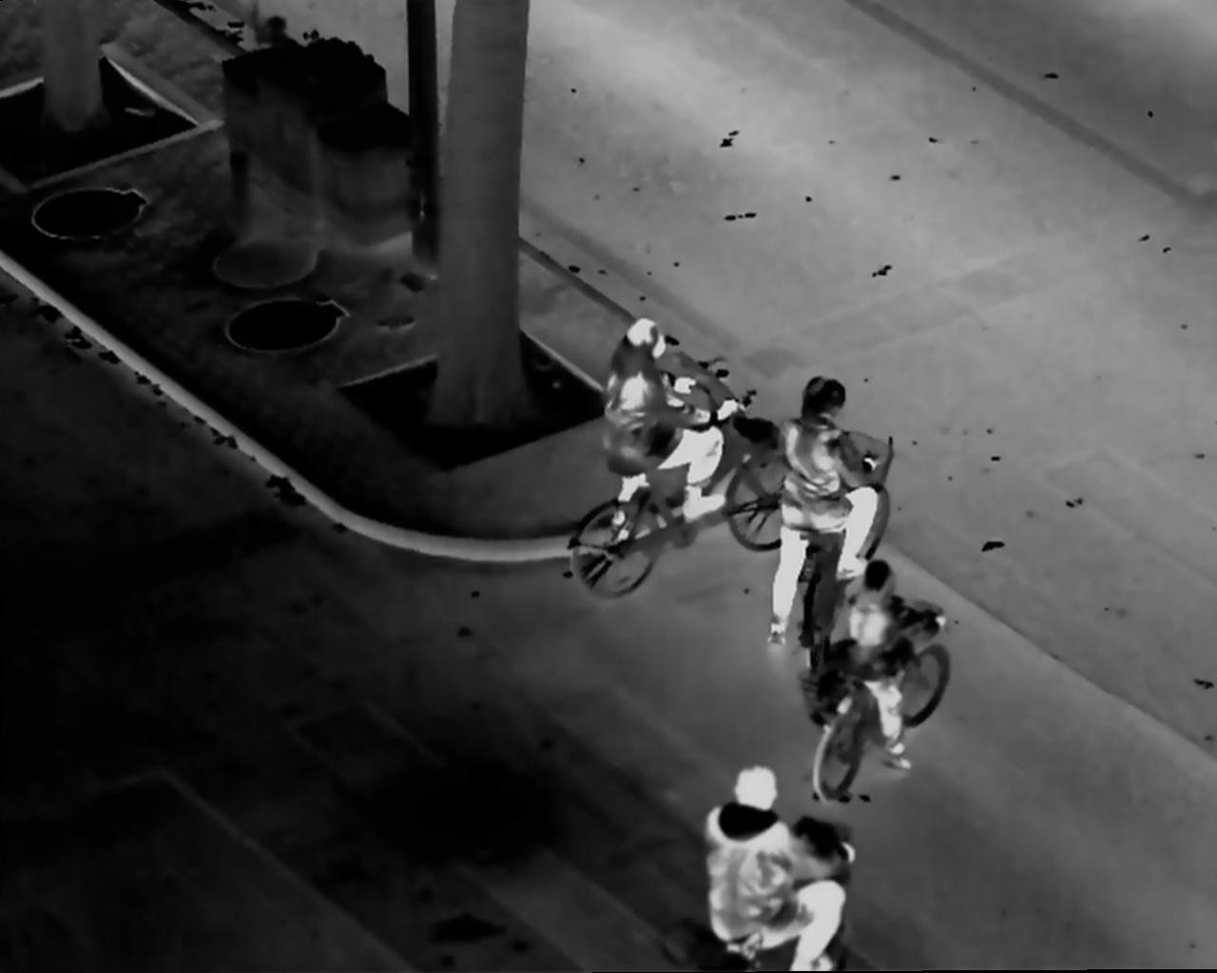person: (594, 311, 749, 551), (693, 763, 864, 973), (764, 372, 879, 646), (834, 560, 926, 777)
